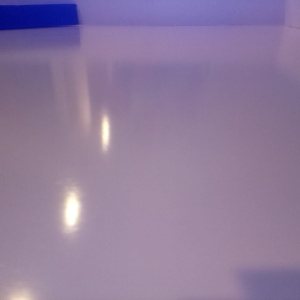zone: (1, 2, 79, 30)
